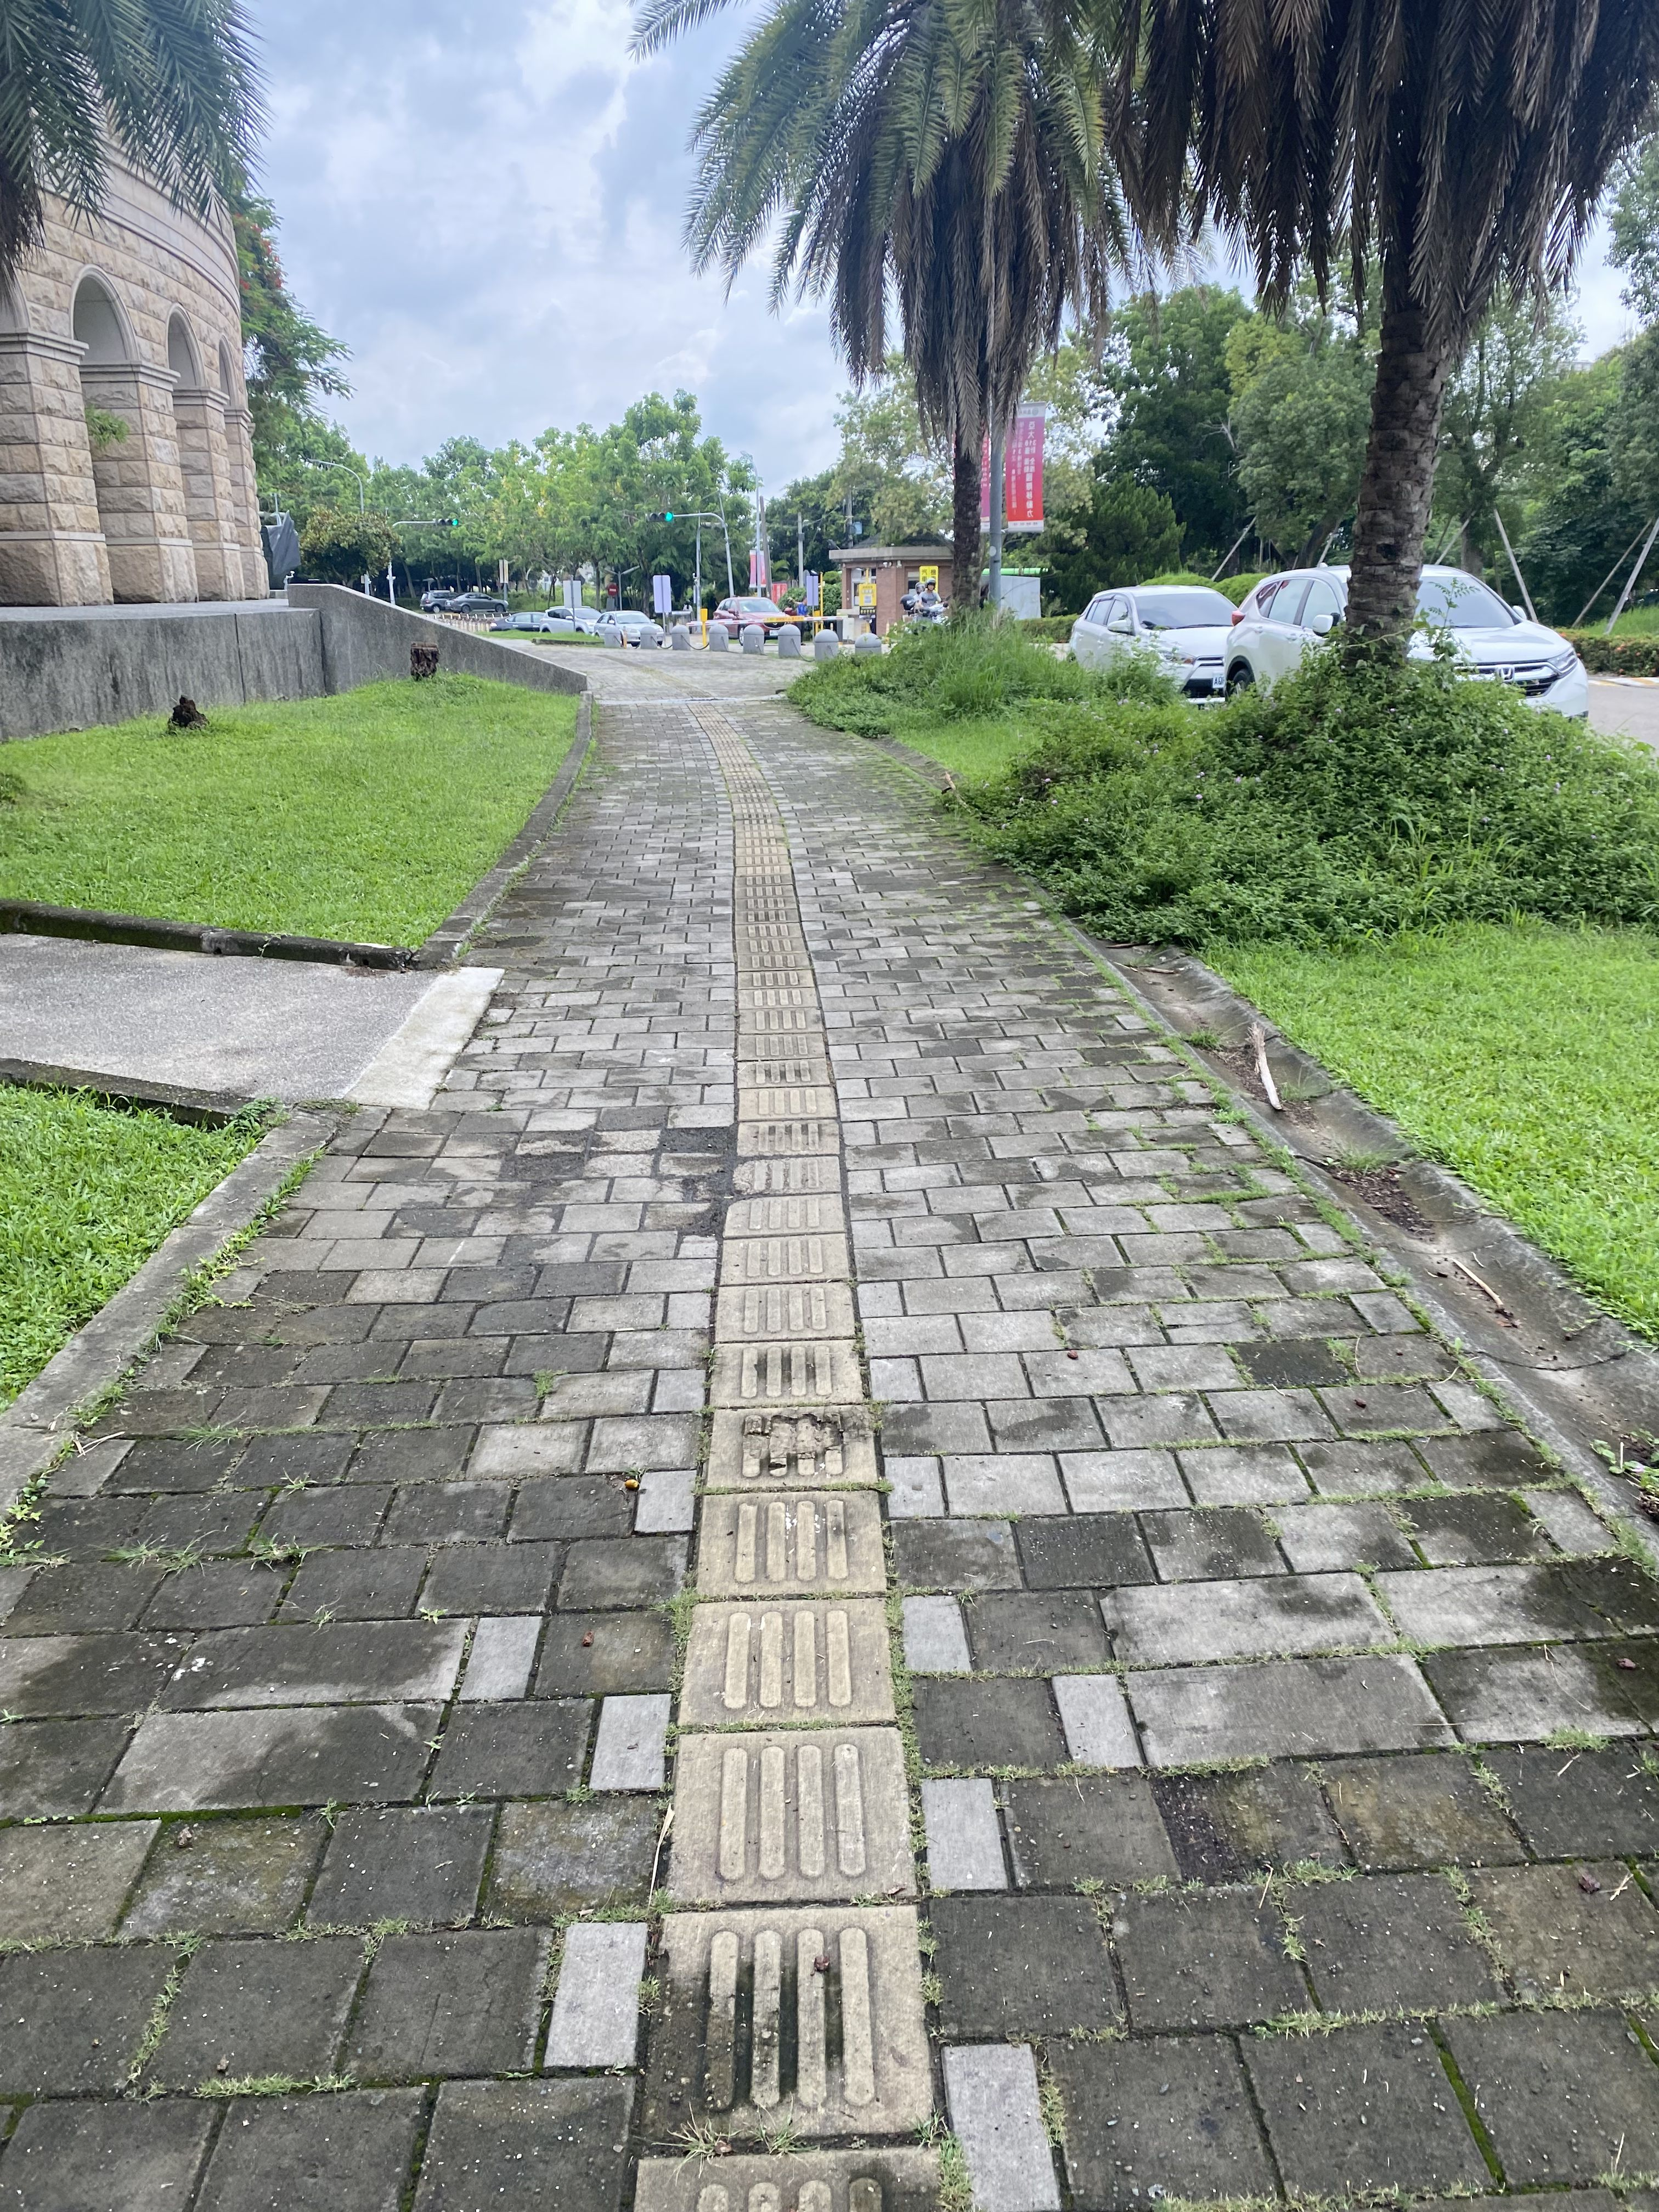0: (3, 848, 1659, 2212)
sidewalk: (523, 627, 1091, 1609)
